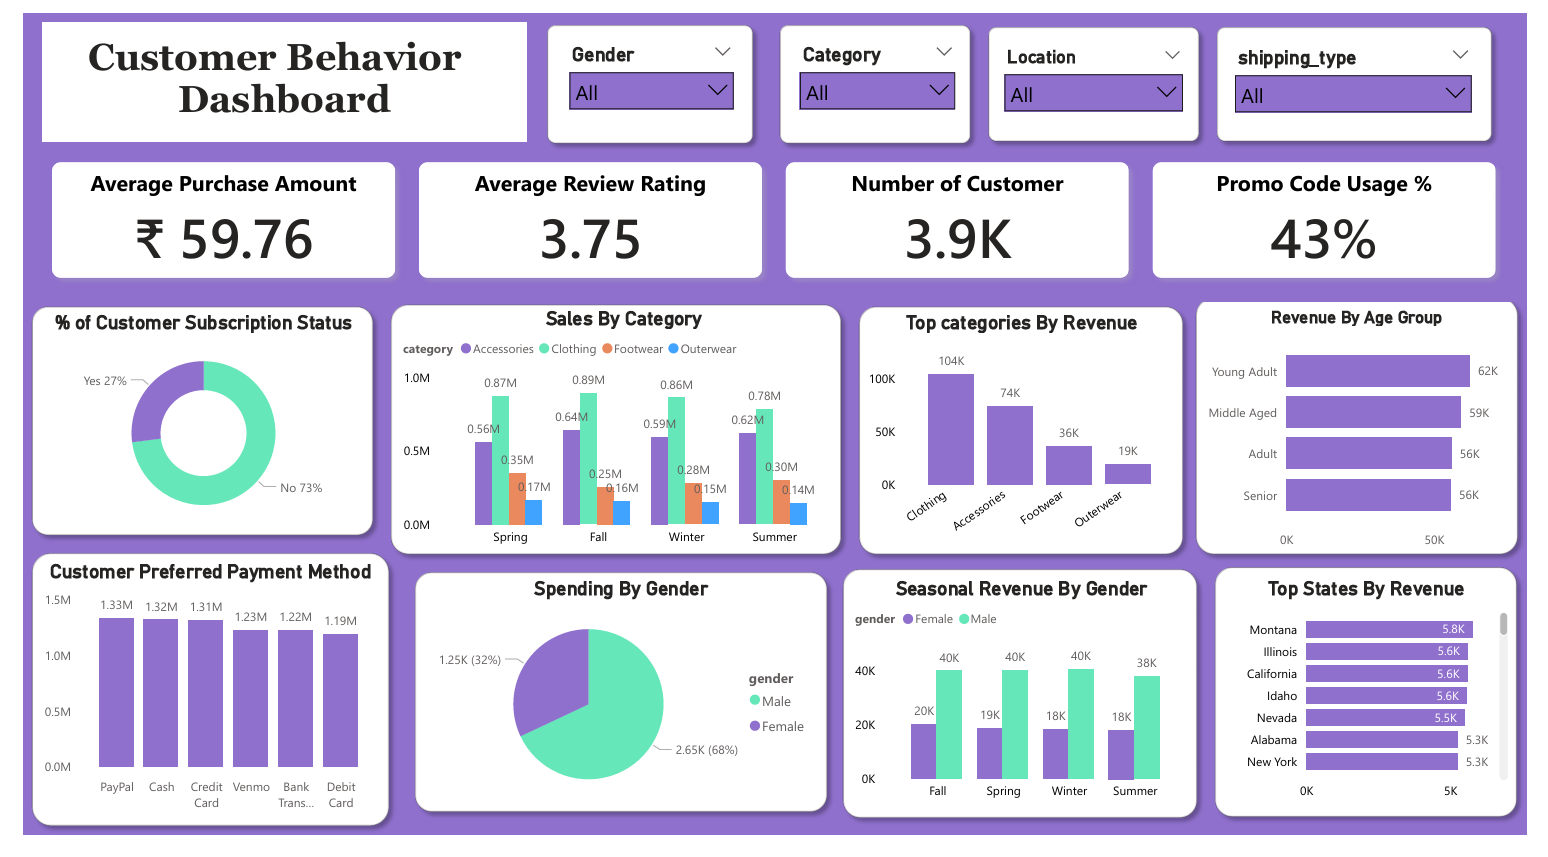

This screenshot's page, from the dashboard's own definition file:
{"tool":"powerbi","page":{"name":"Page 1","canvas":[1500,820],"ordinal":0},"visuals":[{"type":"shape","box":[809.3,545.9,370.7,266.6],"z":0},{"type":"shape","box":[1161.1,274.5,339.2,274.5],"z":1000},{"type":"cardVisual","fields":{"Data":["customer_behavior customer.avg_purchse_amount","customer_behavior customer.avg_review_rating","customer_behavior customer.NO.of_customer","customer_behavior customer.Promo Code Usage %"]},"box":[0,119.9,1500.3,173.5],"z":2000},{"type":"shape","box":[0,0,1500.3,138.3],"z":3000},{"type":"textbox","box":[18.9,9.5,482.8,118.3],"z":4000},{"type":"shape","box":[0,284,358.1,246.1],"z":5000},{"type":"donutChart","title":" % of  Customer Subscription Status","fields":{"Category":["customer_behavior customer.subscription_status"],"Y":["CountNonNull(customer_behavior customer.customer_id)"]},"box":[18.9,296.6,321.8,222.4],"z":6000},{"type":"shape","box":[825.1,284,340.8,265],"z":7000},{"type":"shape","box":[381.8,549,429.1,257.2],"z":8000},{"type":"shape","box":[0,530.1,373.9,290.3],"z":9000},{"type":"shape","box":[358.1,282.4,467,266.6],"z":10000},{"type":"clusteredColumnChart","title":"Top categories By Revenue","fields":{"Y":["Sum(customer_behavior customer.purchase_amount)"],"Category":["customer_behavior customer.category"]},"box":[837.7,296.6,317.1,243],"z":11000},{"type":"clusteredColumnChart","title":"Sales By Category ","fields":{"Series":["customer_behavior customer.category"],"Category":["customer_behavior customer.season"],"Y":["Sum(customer_behavior customer.customer_id)"]},"box":[373.9,293.4,451.2,246.1],"z":12000},{"type":"clusteredColumnChart","title":"Customer  Preferred Payment Method","fields":{"Category":["customer_behavior customer.payment_method"],"Y":["Sum(customer_behavior customer.customer_id)"]},"box":[15.8,545.9,342.3,257.2],"z":13000},{"type":"shape","box":[514.3,3.2,222.4,135.7],"z":14000},{"type":"clusteredBarChart","title":"Revenue By Age Group","fields":{"Category":["customer_behavior customer.age_group"],"Y":["Sum(customer_behavior customer.purchase_amount)"]},"box":[1181.6,288.7,317.1,250.8],"z":15000},{"type":"shape","box":[1180.1,544.3,318.7,266.6],"z":16000},{"type":"shape","box":[746.2,3.2,208.2,135.7],"z":17000},{"type":"shape","box":[1181.6,4.7,291.9,132.5],"z":18000},{"type":"slicer","fields":{"Values":["customer_behavior customer.shipping_type"]},"box":[1199,28.4,255.6,83.6],"z":19000},{"type":"slicer","fields":{"Values":["customer_behavior customer.gender"]},"box":[534.8,25.2,184.6,89.9],"z":20000},{"type":"slicer","fields":{"Values":["customer_behavior customer.category"]},"box":[765.1,25.2,175.1,89.9],"z":21000},{"type":"shape","box":[954.5,4.7,227.2,132.5],"z":22000},{"type":"slicer","fields":{"Values":["customer_behavior customer.location"]},"box":[968.7,28.4,198.8,83.6],"z":23000},{"type":"pieChart","title":"Spending By Gender","fields":{"Category":["customer_behavior customer.gender"],"Y":["CountNonNull(customer_behavior customer.customer_id)"]},"box":[399.1,563.2,394.4,230.3],"z":24000},{"type":"clusteredColumnChart","title":"Seasonal Revenue By Gender ","fields":{"Category":["customer_behavior customer.season"],"Series":["customer_behavior customer.gender"],"Y":["Sum(customer_behavior customer.purchase_amount)"]},"box":[825.1,563.2,342.3,230.3],"z":25000},{"type":"barChart","title":"Top  States By Revenue ","fields":{"Category":["customer_behavior customer.location"],"Y":["Sum(customer_behavior customer.purchase_amount)"]},"box":[1194.3,563.2,291.9,230.3],"z":26000}]}

Visuals, with their boxes in screenshot pixels (x1, y1, x2, y2), scaled from the page's 1500x820 canvas onto the 1548x857 screenshot:
shape: pyautogui.locateOnScreen(835, 571, 1218, 849)
shape: pyautogui.locateOnScreen(1198, 287, 1547, 574)
cardVisual - customer_behavior customer.avg_purchse_amount x customer_behavior customer.avg_review_rating: pyautogui.locateOnScreen(0, 125, 1547, 307)
shape: pyautogui.locateOnScreen(0, 0, 1547, 145)
textbox: pyautogui.locateOnScreen(20, 10, 518, 134)
shape: pyautogui.locateOnScreen(0, 297, 370, 554)
" % of  Customer Subscription Status" donutChart: pyautogui.locateOnScreen(20, 310, 352, 542)
shape: pyautogui.locateOnScreen(852, 297, 1203, 574)
shape: pyautogui.locateOnScreen(394, 574, 837, 843)
shape: pyautogui.locateOnScreen(0, 554, 386, 856)
shape: pyautogui.locateOnScreen(370, 295, 852, 574)
"Top categories By Revenue" clusteredColumnChart: pyautogui.locateOnScreen(865, 310, 1192, 564)
"Sales By Category " clusteredColumnChart: pyautogui.locateOnScreen(386, 307, 852, 564)
"Customer  Preferred Payment Method" clusteredColumnChart: pyautogui.locateOnScreen(16, 571, 370, 839)
shape: pyautogui.locateOnScreen(531, 3, 760, 145)
"Revenue By Age Group" clusteredBarChart: pyautogui.locateOnScreen(1219, 302, 1547, 564)
shape: pyautogui.locateOnScreen(1218, 569, 1547, 847)
shape: pyautogui.locateOnScreen(770, 3, 985, 145)
shape: pyautogui.locateOnScreen(1219, 5, 1521, 143)
slicer - customer_behavior customer.shipping_type: pyautogui.locateOnScreen(1237, 30, 1501, 117)
slicer - customer_behavior customer.gender: pyautogui.locateOnScreen(552, 26, 742, 120)
slicer - customer_behavior customer.category: pyautogui.locateOnScreen(790, 26, 970, 120)
shape: pyautogui.locateOnScreen(985, 5, 1220, 143)
slicer - customer_behavior customer.location: pyautogui.locateOnScreen(1000, 30, 1205, 117)
"Spending By Gender" pieChart: pyautogui.locateOnScreen(412, 589, 819, 829)
"Seasonal Revenue By Gender " clusteredColumnChart: pyautogui.locateOnScreen(852, 589, 1205, 829)
"Top  States By Revenue " barChart: pyautogui.locateOnScreen(1233, 589, 1534, 829)
